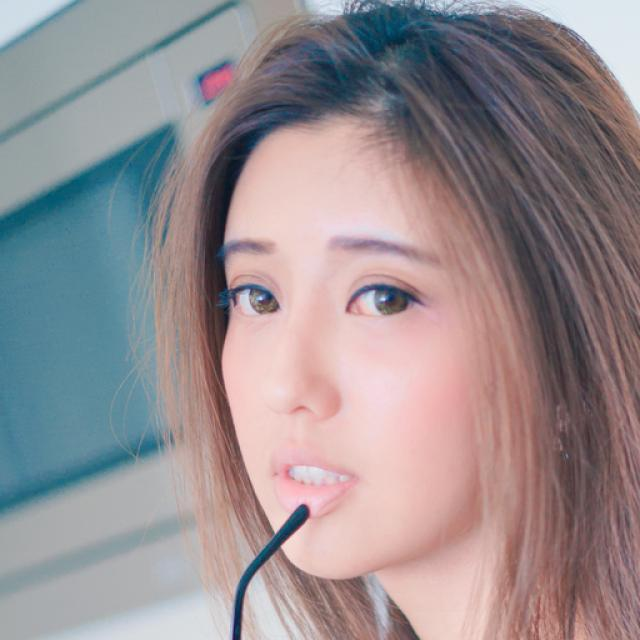neutral: (220, 102, 548, 578)
